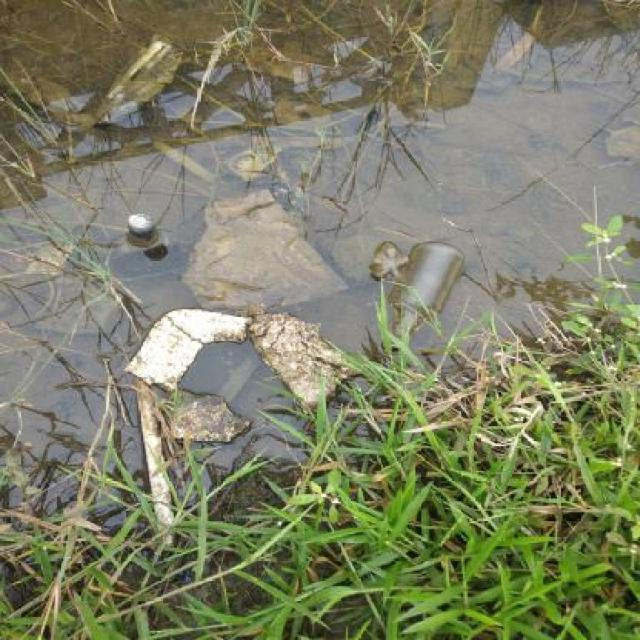garbage: (385, 240, 470, 368), (116, 208, 197, 296)
